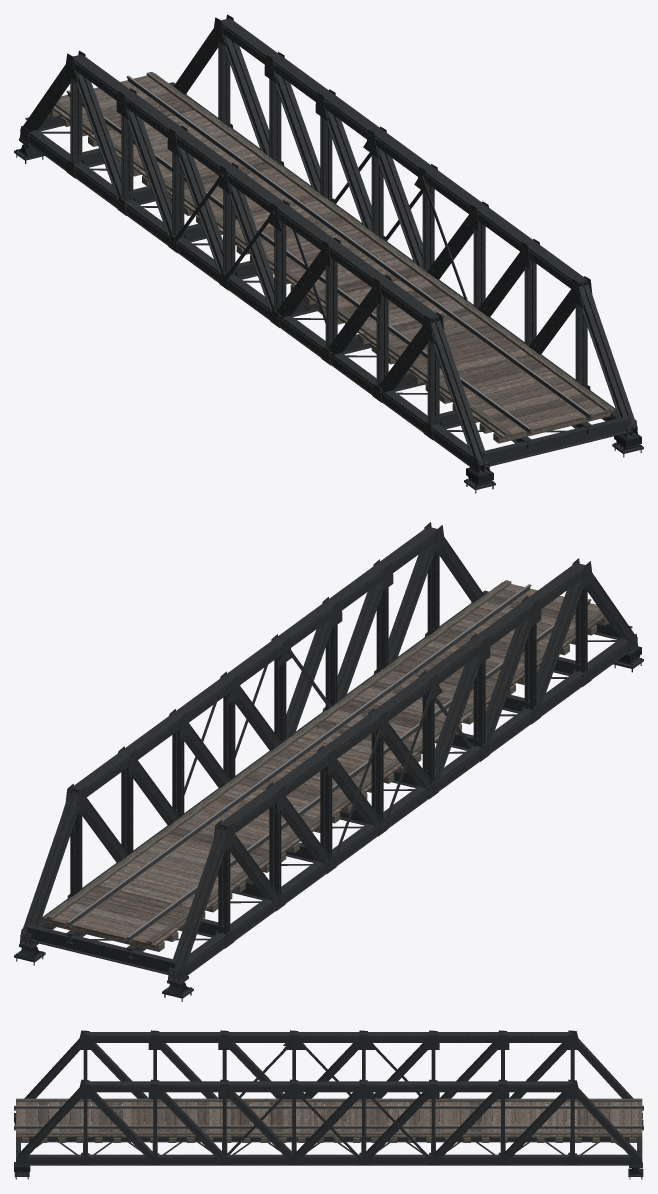
The model's file is Model_BeishaheBridgeSpan.glb.
The picture shows the model from 3 angles, top to bottom: view 1: azimuth 30°, elevation 25°; view 2: azimuth 150°, elevation 25°; view 3: azimuth 270°, elevation 25°; orthographic projection. The views are drawn at different scales.
Parts seen in each view (by area): view 1: Intact_Span01_Trusses, Intact_Span01_DeckPlanks, Intact_Span01_GuardTimbers, Intact_Span01_RailEast, Intact_Span01_RailWear, Intact_Span01_RailWest, Intact_Span01_Sleepers, Intact_Span01_Rivets, Intact_Span01_Bearings; view 2: Intact_Span01_Trusses, Intact_Span01_DeckPlanks, Intact_Span01_GuardTimbers, Intact_Span01_RailEast, Intact_Span01_RailWear, Intact_Span01_Sleepers, Intact_Span01_RailWest, Intact_Span01_Rivets, Intact_Span01_SleeperEnds; view 3: Intact_Span01_Trusses, Intact_Span01_DeckPlanks, Intact_Span01_GuardTimbers, Intact_Span01_RailWear, Intact_Span01_RailEast, Intact_Span01_RailWest, Intact_Span01_SleeperEnds, Intact_Span01_Rivets, Intact_Span01_Sleepers, Intact_Span01_DeckBearers, Intact_Span01_Bearings.
Part boxes in pixels (box(x1,y1,x2,y2)): Intact_Span01_Trusses: box(20, 14, 637, 474); Intact_Span01_DeckPlanks: box(52, 73, 614, 438); Intact_Span01_GuardTimbers: box(55, 72, 611, 435); Intact_Span01_RailEast: box(126, 76, 592, 419); Intact_Span01_RailWear: box(67, 75, 590, 428); Intact_Span01_RailWest: box(66, 90, 532, 434); Intact_Span01_Sleepers: box(52, 109, 610, 443); Intact_Span01_Rivets: box(21, 22, 625, 470); Intact_Span01_Bearings: box(14, 138, 643, 490); Intact_Span01_Trusses: box(19, 522, 637, 982); Intact_Span01_DeckPlanks: box(43, 582, 605, 946); Intact_Span01_GuardTimbers: box(46, 580, 602, 944); Intact_Span01_RailEast: box(65, 584, 531, 928); Intact_Span01_RailWear: box(67, 584, 590, 937); Intact_Span01_Sleepers: box(47, 618, 605, 951); Intact_Span01_RailWest: box(125, 599, 591, 943); Intact_Span01_Rivets: box(32, 530, 636, 978); Intact_Span01_SleeperEnds: box(159, 619, 608, 951); Intact_Span01_Trusses: box(16, 1030, 642, 1165); Intact_Span01_DeckPlanks: box(16, 1099, 642, 1137); Intact_Span01_GuardTimbers: box(16, 1098, 642, 1135); Intact_Span01_RailWear: box(14, 1105, 643, 1126); Intact_Span01_RailEast: box(14, 1126, 643, 1130); Intact_Span01_RailWest: box(14, 1106, 643, 1110); Intact_Span01_SleeperEnds: box(21, 1138, 636, 1142); Intact_Span01_Rivets: box(22, 1038, 632, 1164); Intact_Span01_Sleepers: box(21, 1104, 636, 1142); Intact_Span01_DeckBearers: box(26, 1102, 598, 1136); Intact_Span01_Bearings: box(14, 1113, 643, 1176).
Bounding box in the file's own units: 4.22 × 3.32 × 20.
8 materials, 7 textured.
